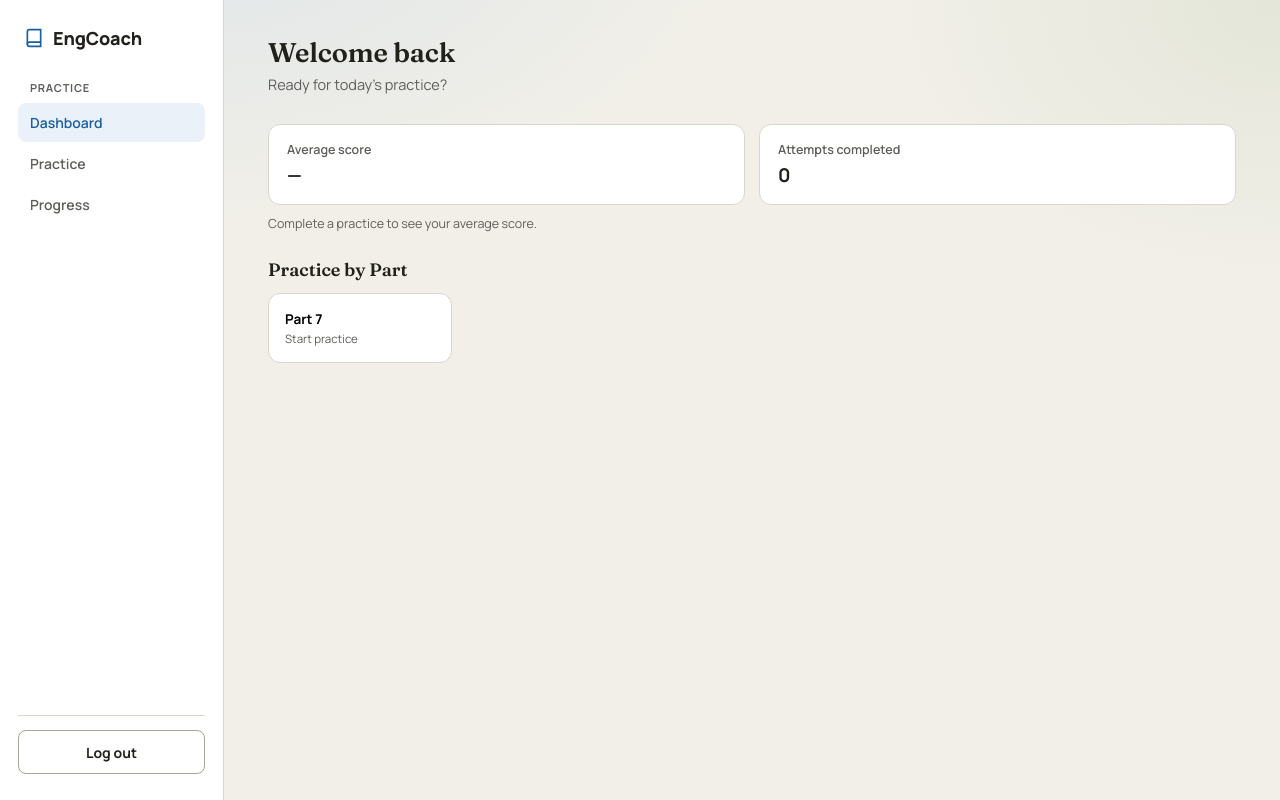
Scenario: Dashboard — Part list (S6b) › 422 on start (Part has no questions) shows a clear message and stays on Dashboard
Click the button with aria-label "Start Part 7": click(360, 328) [268, 293, 452, 363]
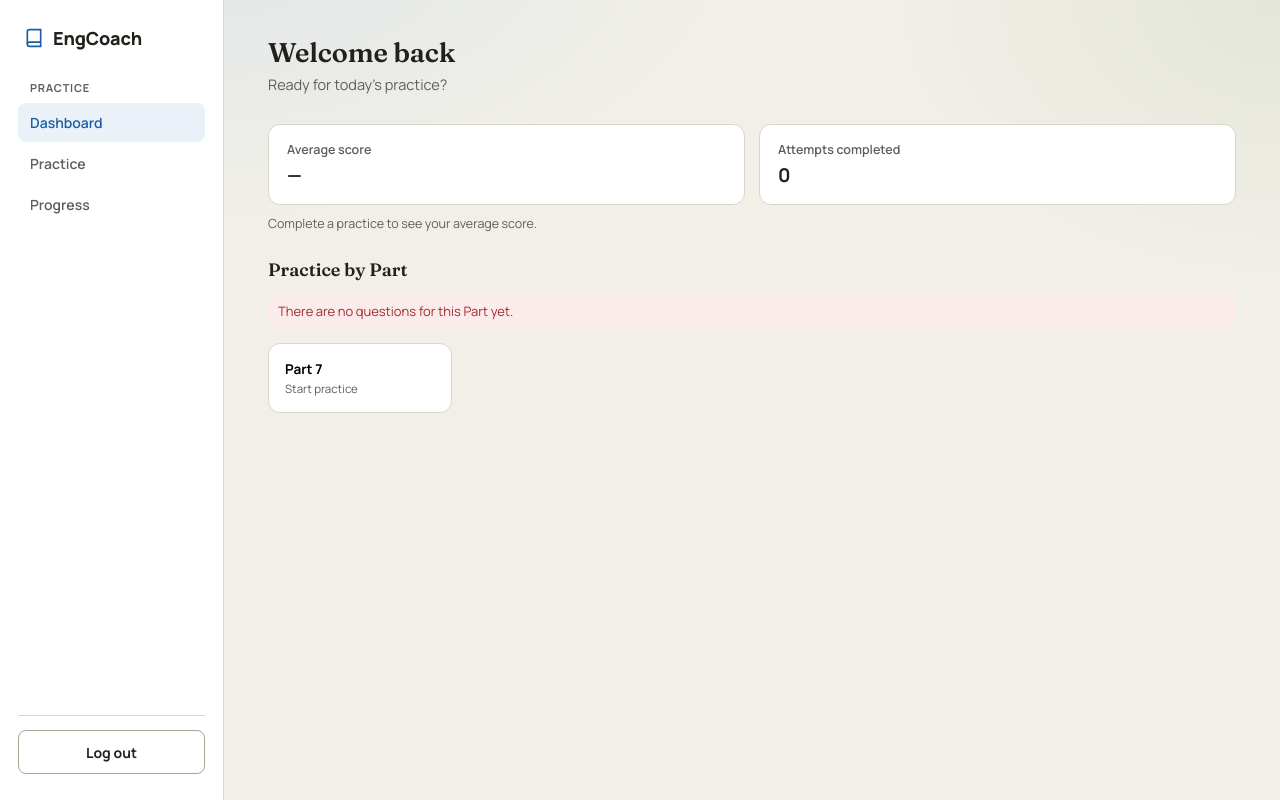
Expected: the button with aria-label "Start Part 7" is enabled, [268, 343, 452, 413]
Expected: the message shows "no questions for this Part yet", [278, 302, 513, 320]
